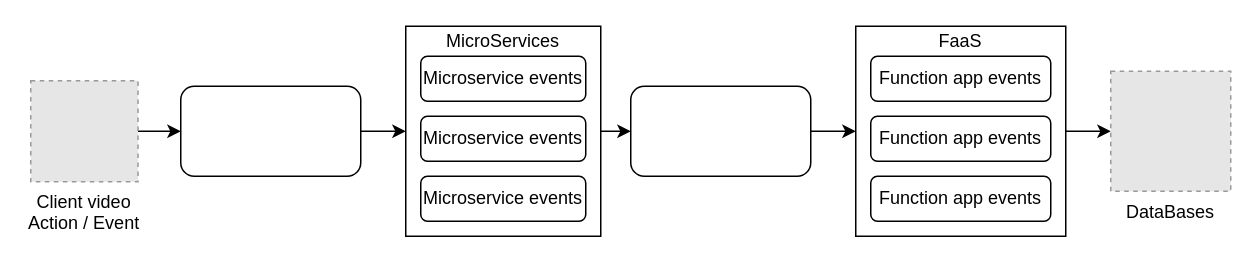
The diagram is 1257 pixels wide and 263 high, and some of its shapes have lost their labels. Grey dashed boxes stand in for pictures. The box of each missing label's shape, as (x1, y1, x2, y2) in pixels:
Load Balancer: (179, 85, 361, 176)
Message queue Cluster RabbitMQ / Kafka: (629, 85, 811, 176)
